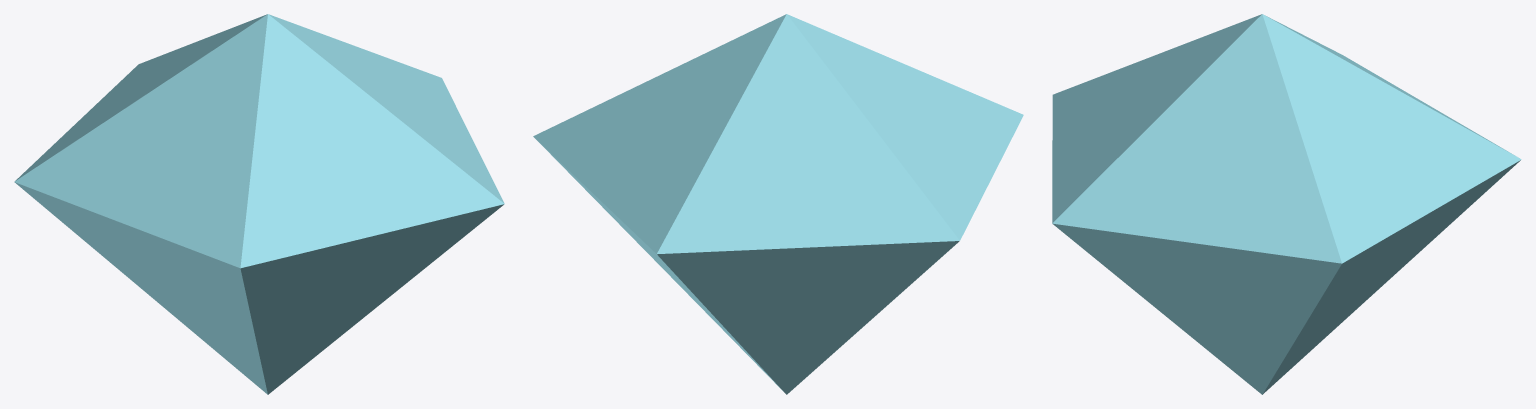
File: Sapphire.fbx
The picture shows the model from 3 angles, left to right: view 1: azimuth 30°, elevation 25°; view 2: azimuth 150°, elevation 25°; view 3: azimuth 270°, elevation 25°; orthographic projection.
Parts seen in each view (by area): view 1: Sapphire; view 2: Sapphire; view 3: Sapphire.
Boxes of the visible parts, x1=… form: Sapphire: x1=14, y1=14, x2=504, y2=394; Sapphire: x1=533, y1=14, x2=1023, y2=394; Sapphire: x1=1052, y1=14, x2=1521, y2=394.
Size of the model in its own units: 42.53 by 36.23 by 40.47.
